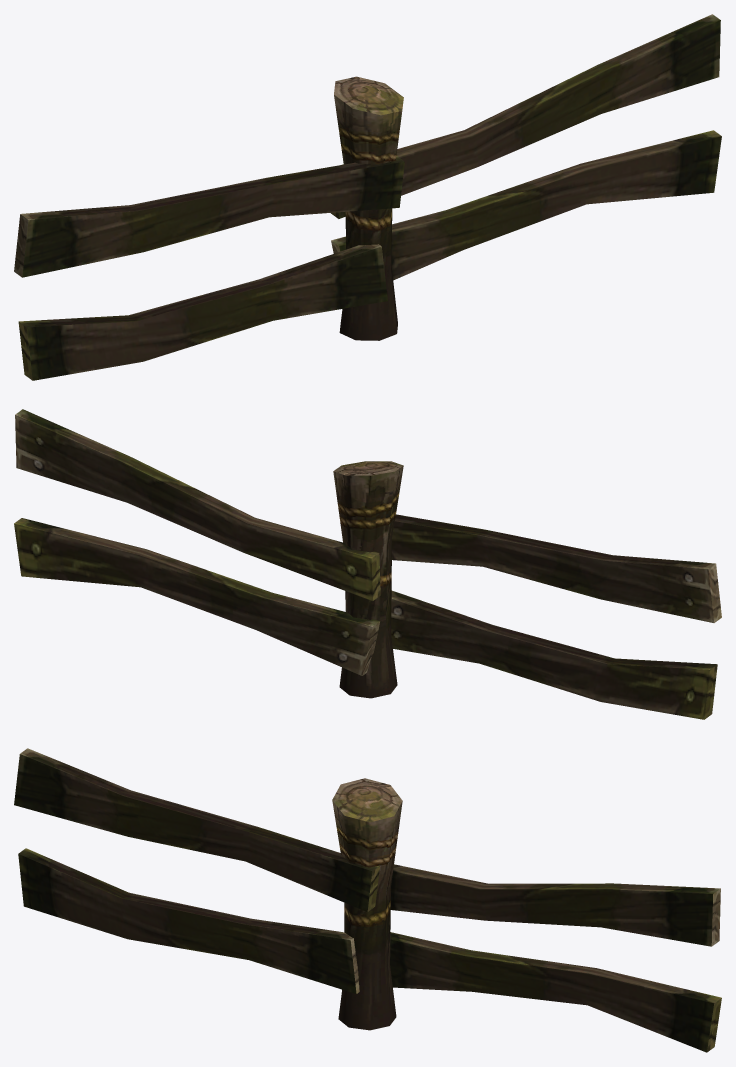
Rendered from lumina_object_fencesmall01_02.FBX.
3 renders of one model, top to bottom at view 1: azimuth 30°, elevation 25°; view 2: azimuth 150°, elevation 25°; view 3: azimuth 330°, elevation 25°, orthographic. The views are drawn at different scales.
Parts seen in each view (by area): view 1: lumina_object_fencesmall01_02; view 2: lumina_object_fencesmall01_02; view 3: lumina_object_fencesmall01_02.
Boxes of the visible parts, bbox=[...] form: lumina_object_fencesmall01_02: bbox=[14, 14, 721, 380]; lumina_object_fencesmall01_02: bbox=[14, 409, 721, 719]; lumina_object_fencesmall01_02: bbox=[14, 748, 721, 1052].
Bounding box in the file's own units: 4.29 × 1.36 × 0.3789.
